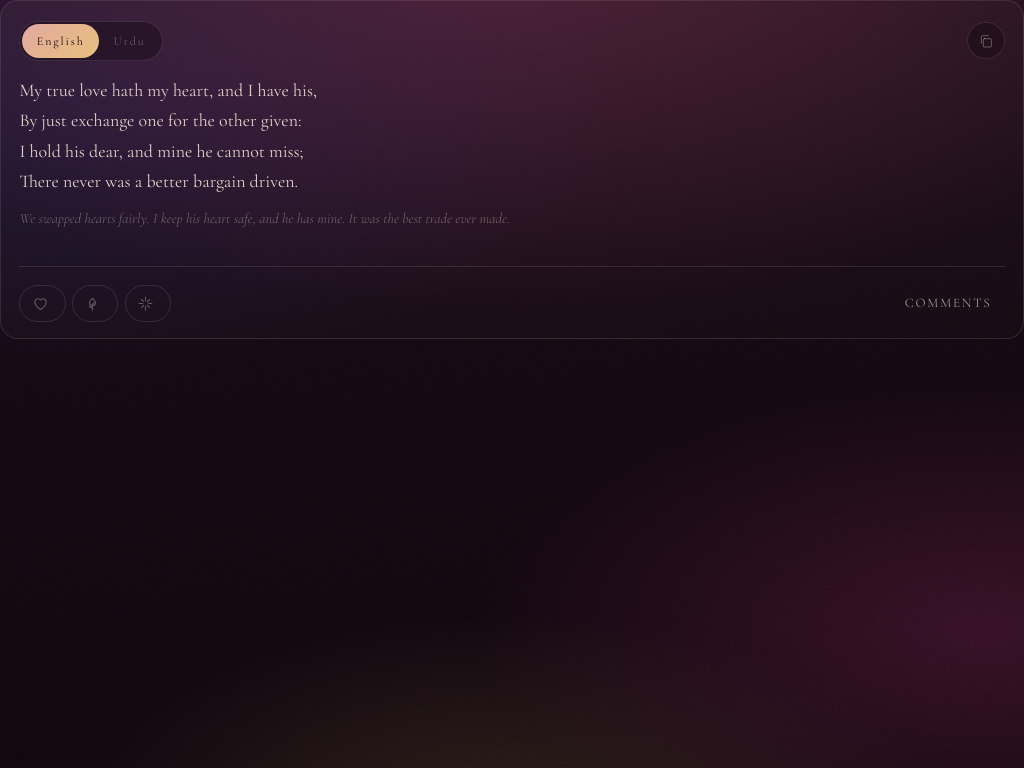
Test case: an English card › switches back to English
Click the tab "Urdu".
click(129, 41)  # box [99,24,160,58]
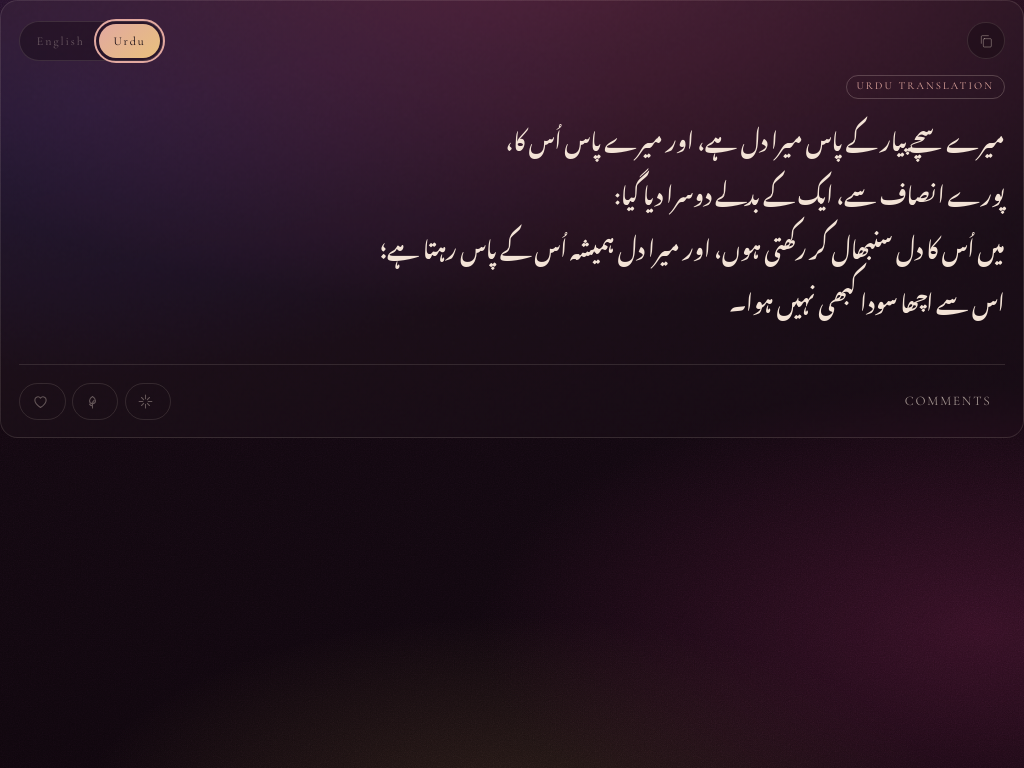
Click the tab "English".
click(61, 41)  # box [22,24,99,58]
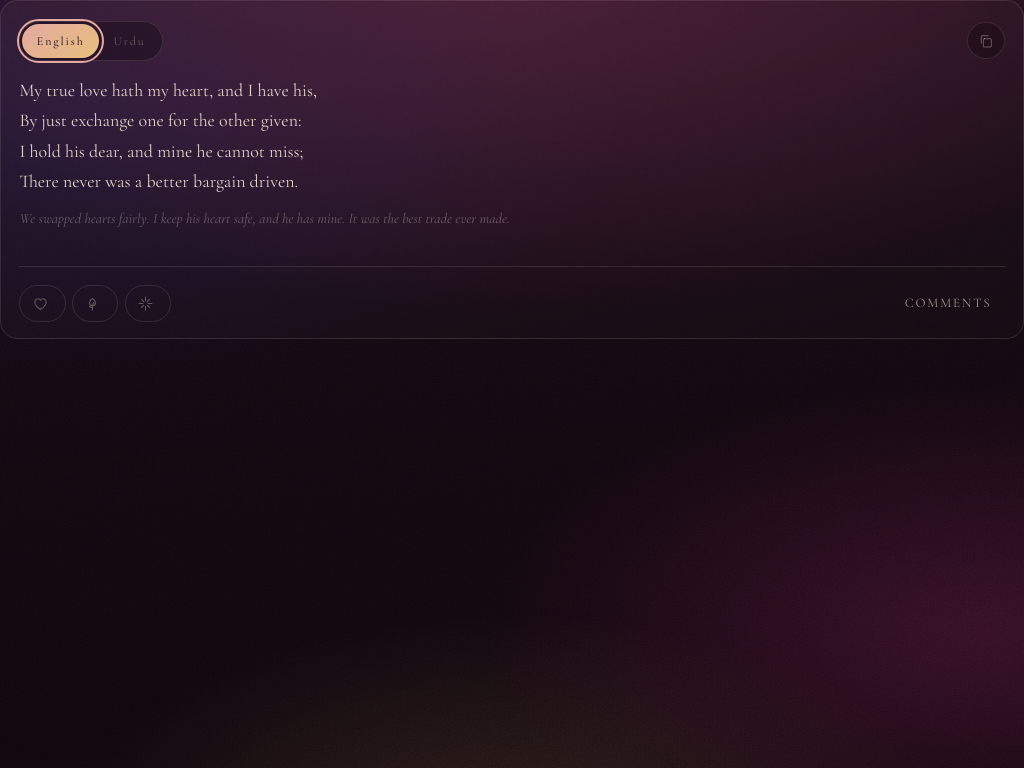
Expected: the element with class "classic__english" is shown, [19,79,317,192]
Expected: the text "Urdu translation" is gone
